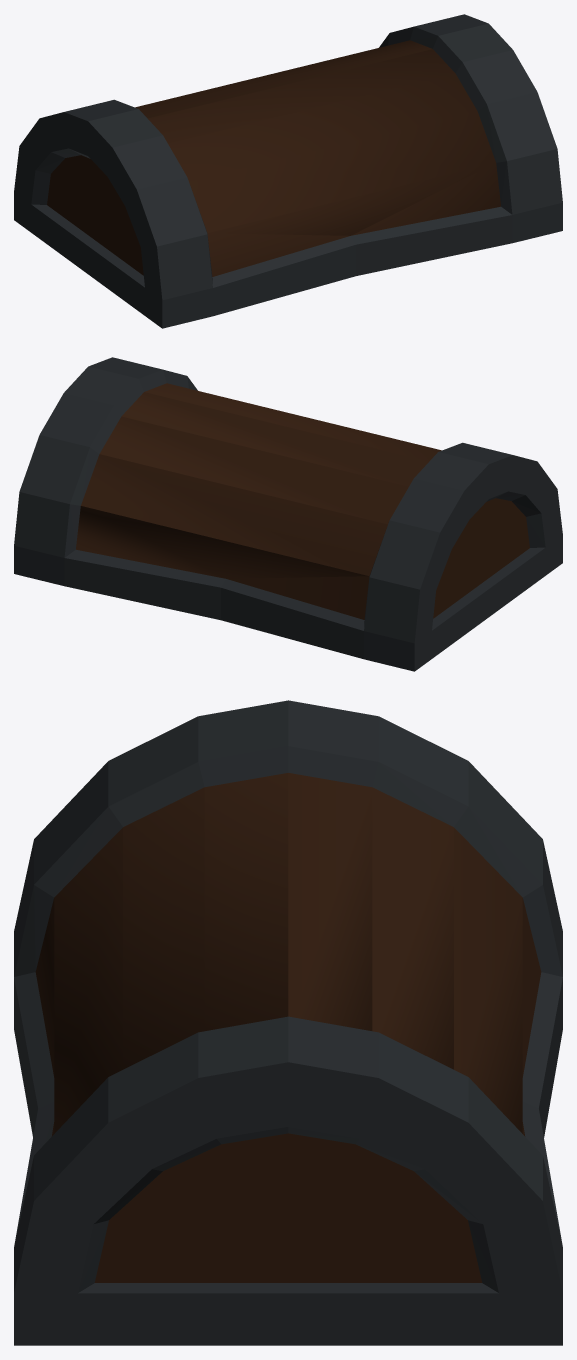
File: chest_cover.FBX
3 views of the same model, one above another, from view 1: azimuth 30°, elevation 25°; view 2: azimuth 150°, elevation 25°; view 3: azimuth 270°, elevation 25° (orthographic). The views are drawn at different scales.
Parts seen in each view (by area): view 1: chest_cover; view 2: chest_cover; view 3: chest_cover.
Part boxes in pixels (<box>): chest_cover: <box>14,14,562,328</box>; chest_cover: <box>14,357,562,671</box>; chest_cover: <box>14,700,562,1345</box>.
Size of the model in its own units: 6.48 by 2.4 by 4.16.
